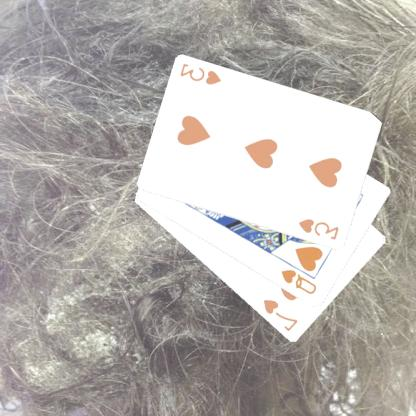3H: (297, 216, 343, 242), (179, 61, 225, 86)
7H: (262, 296, 302, 334)
QH: (280, 266, 320, 296)
